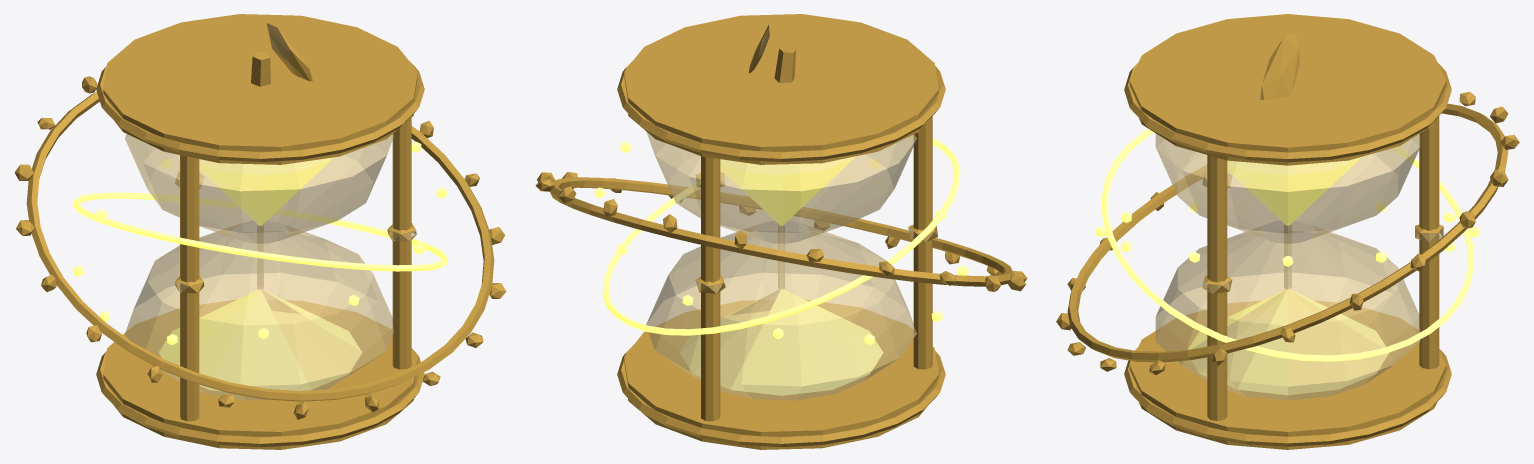
Rendered from fruto-tempo.glb.
3 renders of one model, left to right at view 1: azimuth 30°, elevation 25°; view 2: azimuth 150°, elevation 25°; view 3: azimuth 270°, elevation 25°, orthographic.
Visible parts, largest first — view 1: Fruit_Body; view 2: Fruit_Body; view 3: Fruit_Body.
Part boxes in pixels (box(x1,y1,x2,y2)): Fruit_Body: box(14, 14, 506, 449); Fruit_Body: box(535, 14, 1027, 449); Fruit_Body: box(1056, 14, 1519, 449).
Size of the model in its own units: 1.79 by 1.39 by 1.64.
